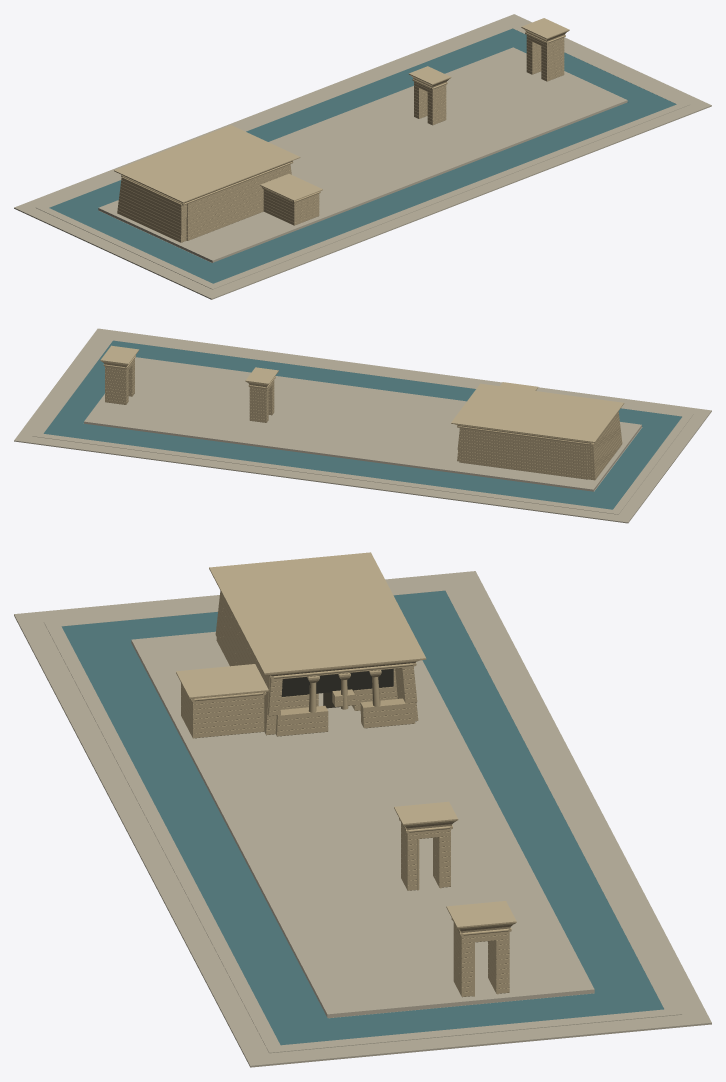
The model's file is templo-de-debod-near.glb.
3 renders of one model, top to bottom at view 1: azimuth 30°, elevation 25°; view 2: azimuth 150°, elevation 25°; view 3: azimuth 270°, elevation 25°, orthographic. The views are drawn at different scales.
Parts seen in each view (by area): view 1: templo-de-debod-0-platform, templo-de-debod-0-water, templo-de-debod-0-stone, templo-de-debod-0-cornice; view 2: templo-de-debod-0-platform, templo-de-debod-0-water, templo-de-debod-0-stone, templo-de-debod-0-cornice; view 3: templo-de-debod-0-platform, templo-de-debod-0-water, templo-de-debod-0-cornice, templo-de-debod-0-stone, templo-de-debod-0-recess.
Part boxes in pixels (x1,y1,x2,y2): templo-de-debod-0-platform: [14, 14, 711, 299]; templo-de-debod-0-water: [49, 28, 676, 283]; templo-de-debod-0-stone: [114, 27, 569, 242]; templo-de-debod-0-cornice: [114, 18, 569, 202]; templo-de-debod-0-platform: [14, 328, 711, 523]; templo-de-debod-0-water: [44, 340, 681, 509]; templo-de-debod-0-stone: [100, 350, 624, 480]; templo-de-debod-0-cornice: [101, 345, 623, 441]; templo-de-debod-0-platform: [14, 571, 711, 1067]; templo-de-debod-0-water: [61, 590, 663, 1045]; templo-de-debod-0-cornice: [176, 552, 516, 926]; templo-de-debod-0-stone: [176, 568, 516, 997]; templo-de-debod-0-recess: [281, 669, 393, 696].
Size of the model in its own units: 94.13 by 7 by 56.1.
